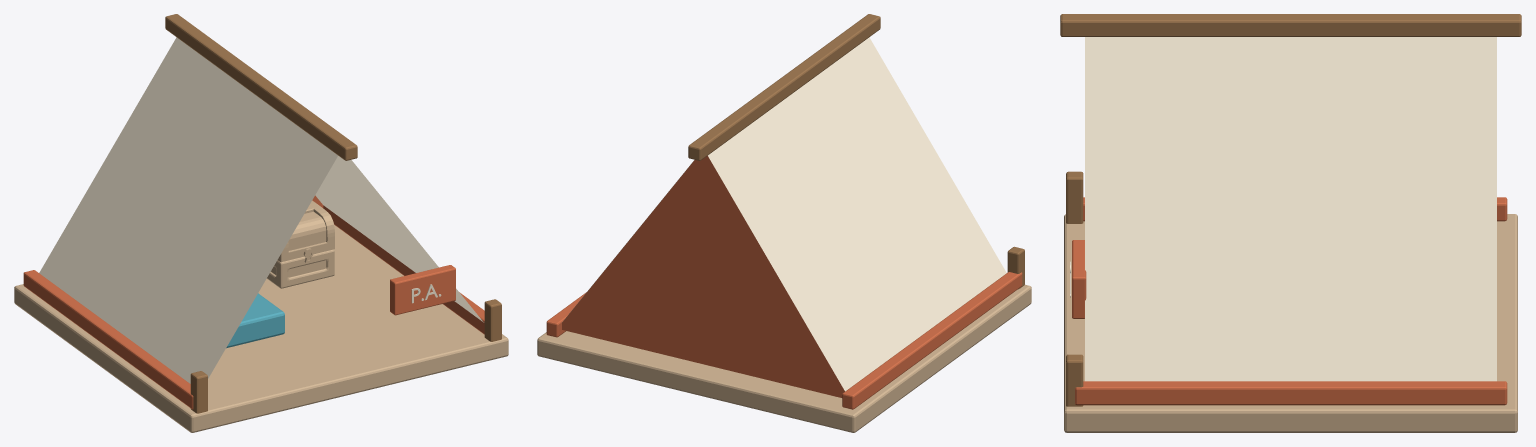
The model's file is PA_StarterShelter.fbx.
3 renders of one model, left to right at view 1: azimuth 30°, elevation 25°; view 2: azimuth 150°, elevation 25°; view 3: azimuth 270°, elevation 25°, orthographic. The views are drawn at different scales.
Parts seen in each view (by area): view 1: PA_StarterShelter; view 2: PA_StarterShelter; view 3: PA_StarterShelter.
Part boxes in pixels (x1,y1,x2,y2): PA_StarterShelter: [14, 14, 508, 432]; PA_StarterShelter: [537, 14, 1031, 432]; PA_StarterShelter: [1060, 14, 1521, 432].
Size of the model in its own units: 3.25 by 2.43 by 3.2.
